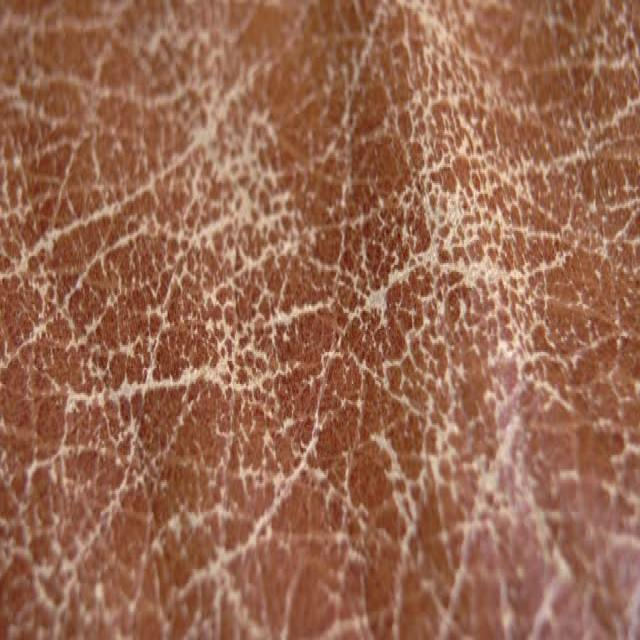Rotten surface: (397, 39, 533, 418), (182, 66, 308, 405)
